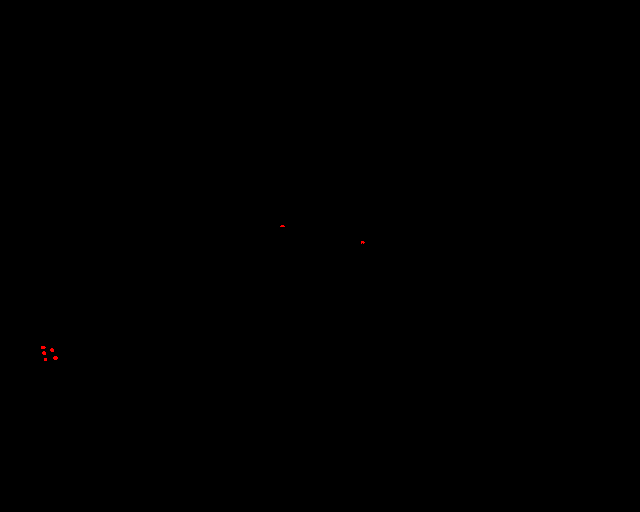Target: (53, 356, 58, 360), (50, 348, 54, 352), (42, 351, 46, 355), (41, 346, 46, 349), (361, 241, 365, 244), (280, 225, 285, 227), (44, 358, 47, 361)
